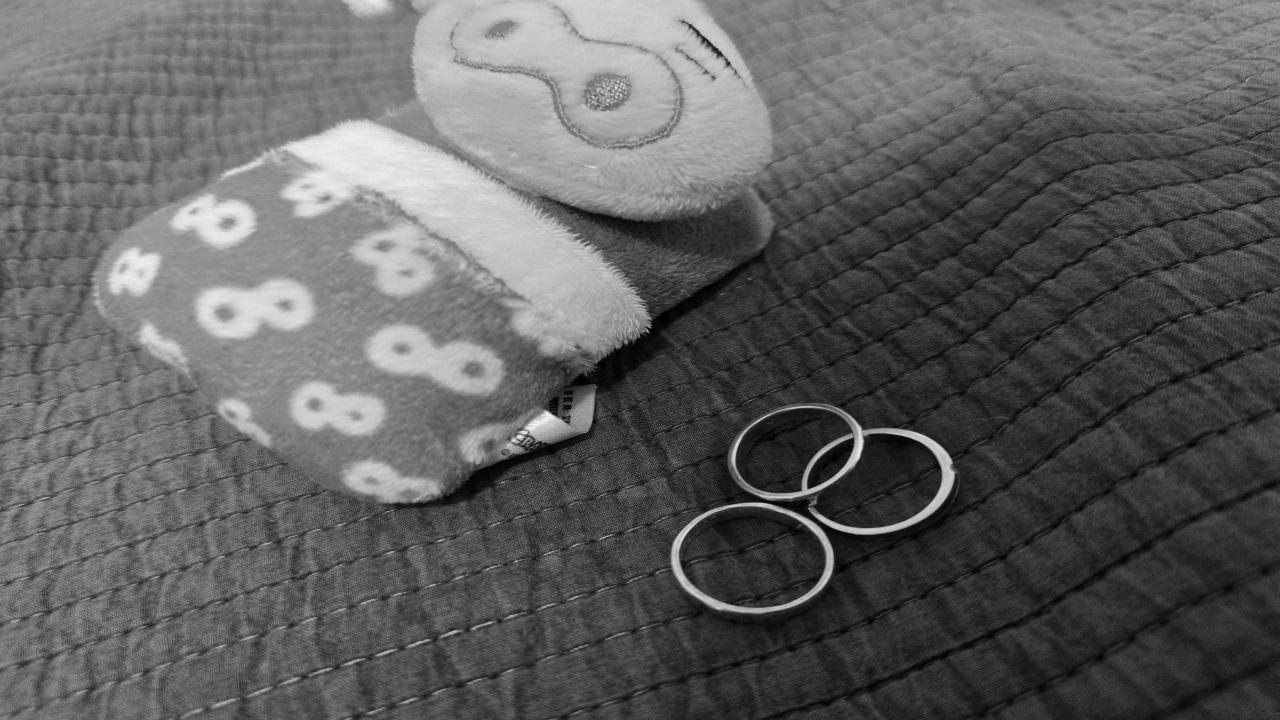ring: (672, 502, 834, 624), (801, 428, 960, 538), (726, 402, 869, 503)
